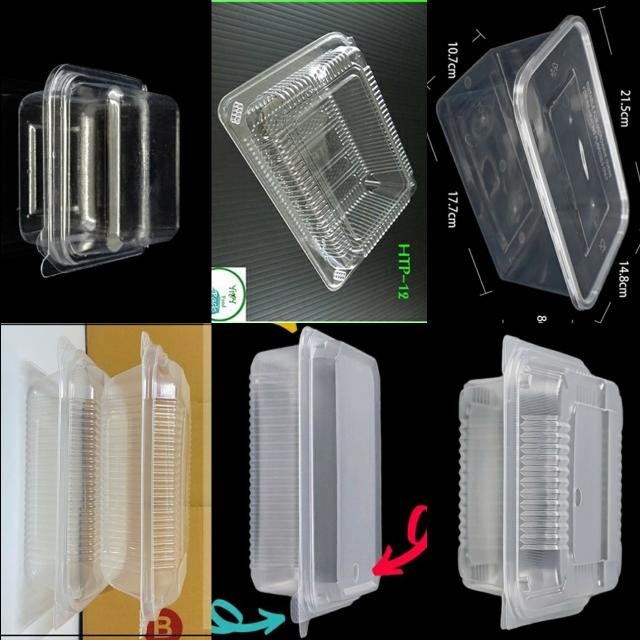plastik: (436, 16, 628, 309), (218, 32, 415, 292), (459, 336, 621, 628), (249, 327, 380, 637), (18, 65, 178, 276), (100, 332, 189, 633), (25, 337, 110, 628)
